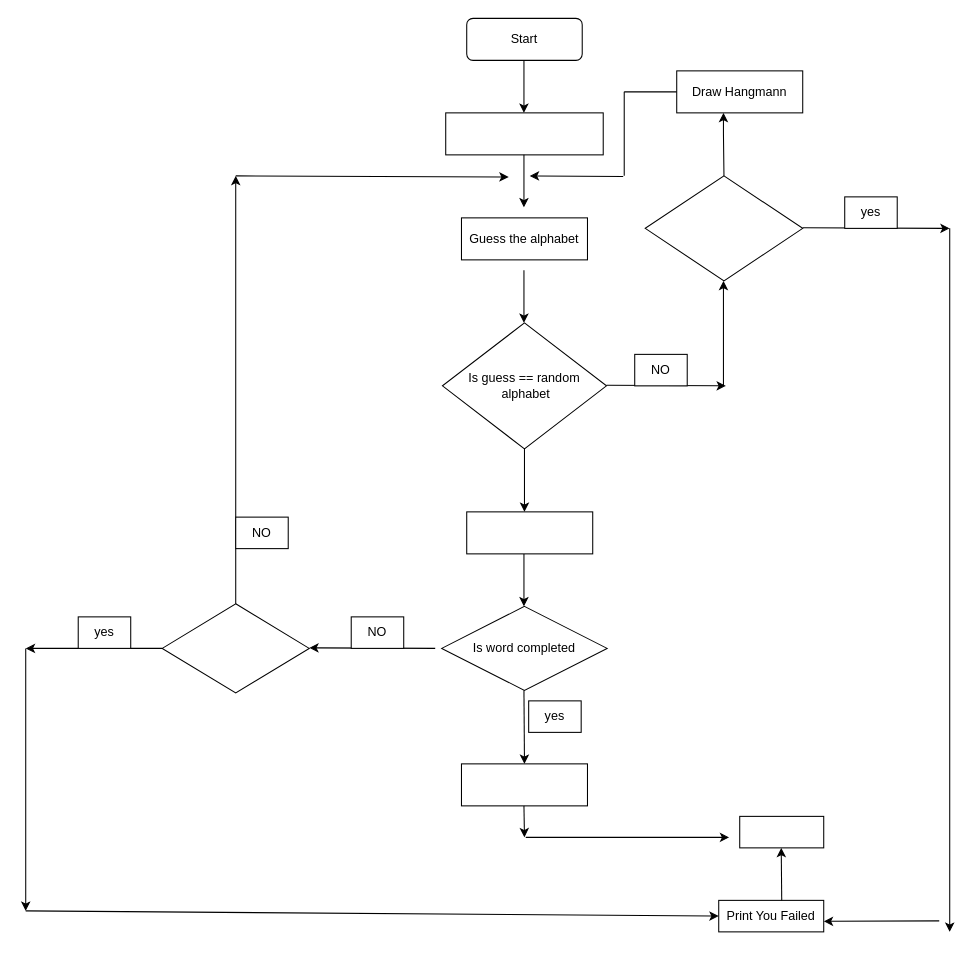
Image size: 976x959. Some labels were removed from this diagram. Here are the shapes that lost their labels. From the top down, the centre of each, then its label:
At point 524,133: "Choose a random word".
At point 723,228: "Is number of attempts reached".
At point 529,532: "fill in blank spaces".
At point 235,648: "Is number of attempt reached".
At point 523,784: "Print You Won".
At point 781,831: "End Game".
